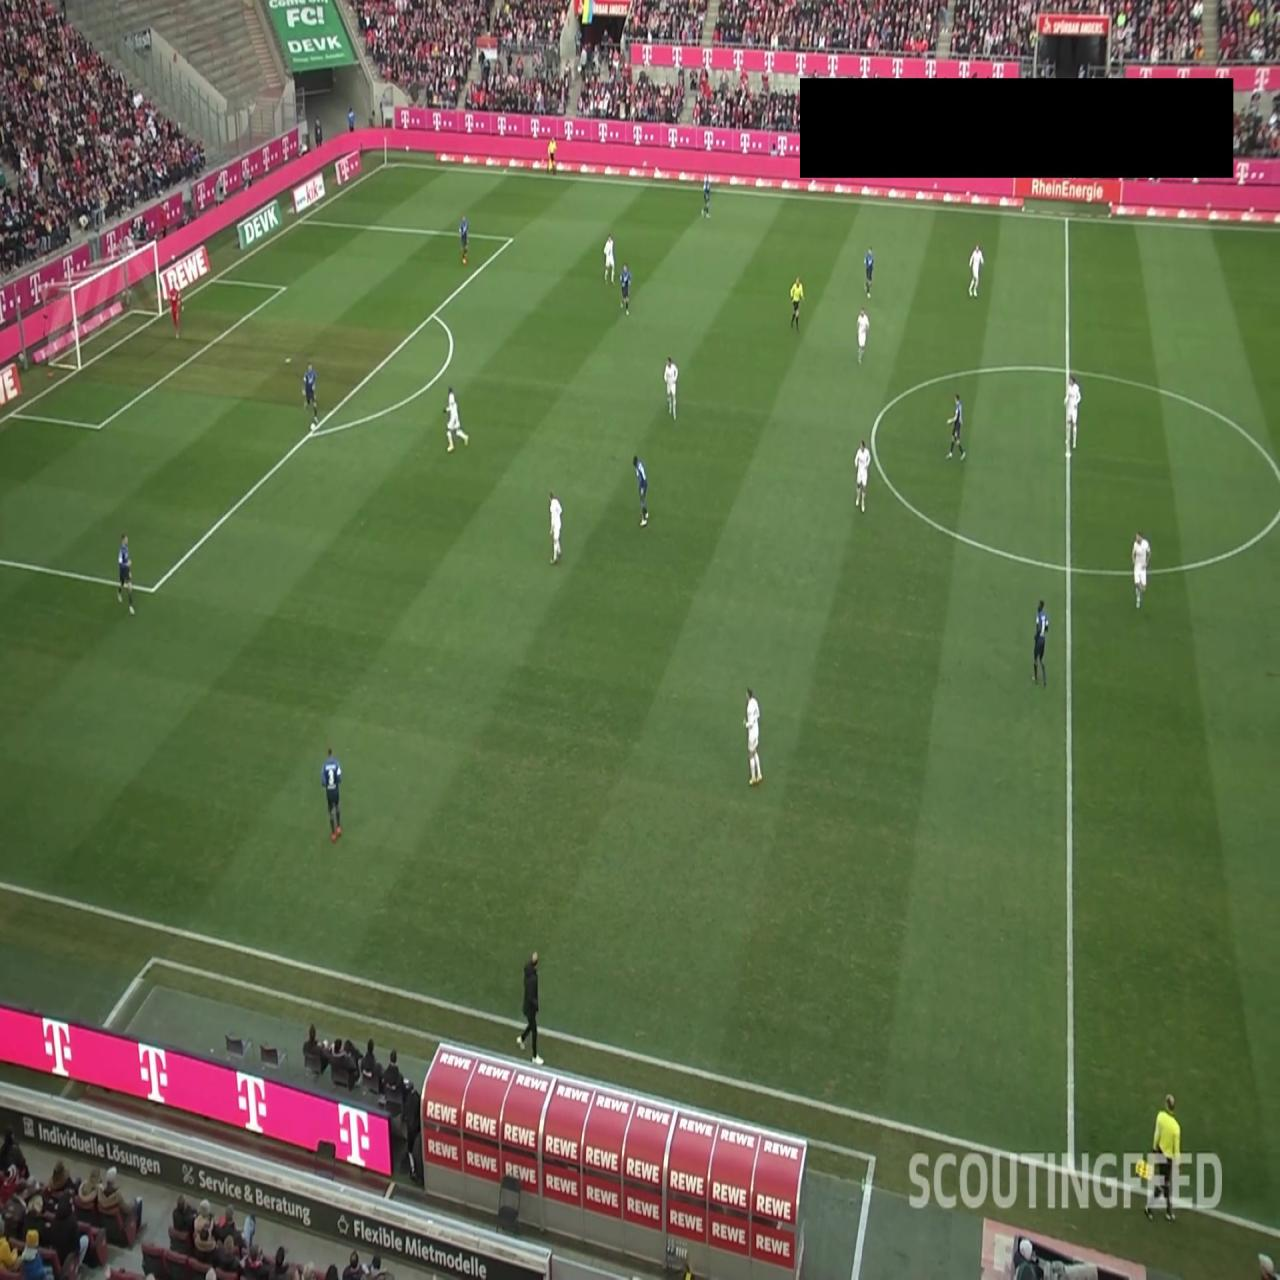ball: (309, 421, 316, 436)
goalkeeper: (167, 276, 185, 344)
player: (320, 746, 342, 842), (742, 685, 762, 786), (443, 386, 469, 452), (945, 390, 967, 461), (1131, 531, 1151, 609), (1032, 598, 1049, 688), (117, 531, 135, 614), (1064, 374, 1082, 452), (854, 439, 871, 512), (632, 454, 649, 526), (301, 361, 319, 426), (548, 488, 562, 564), (663, 356, 679, 420), (967, 243, 985, 299), (862, 244, 875, 302), (857, 306, 869, 366), (619, 262, 632, 315), (603, 233, 615, 286), (458, 213, 469, 267), (702, 173, 711, 218)
referee: (1136, 1093, 1182, 1225), (789, 274, 805, 332), (545, 135, 557, 177)
